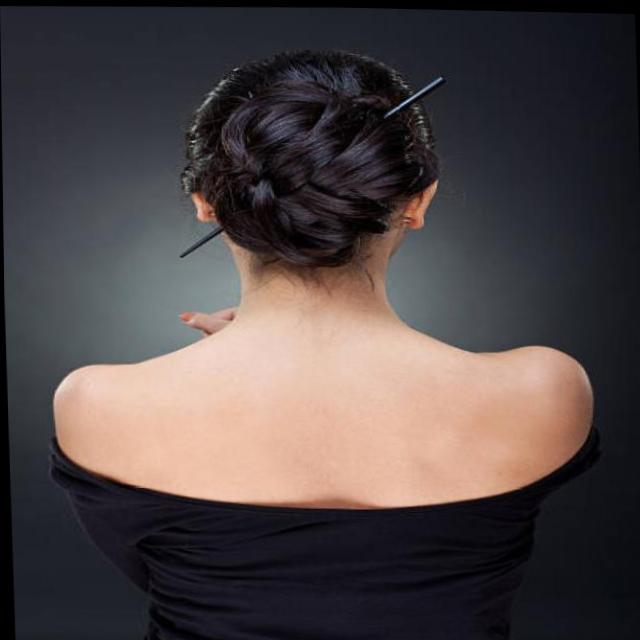no helmet: (187, 40, 438, 296)
